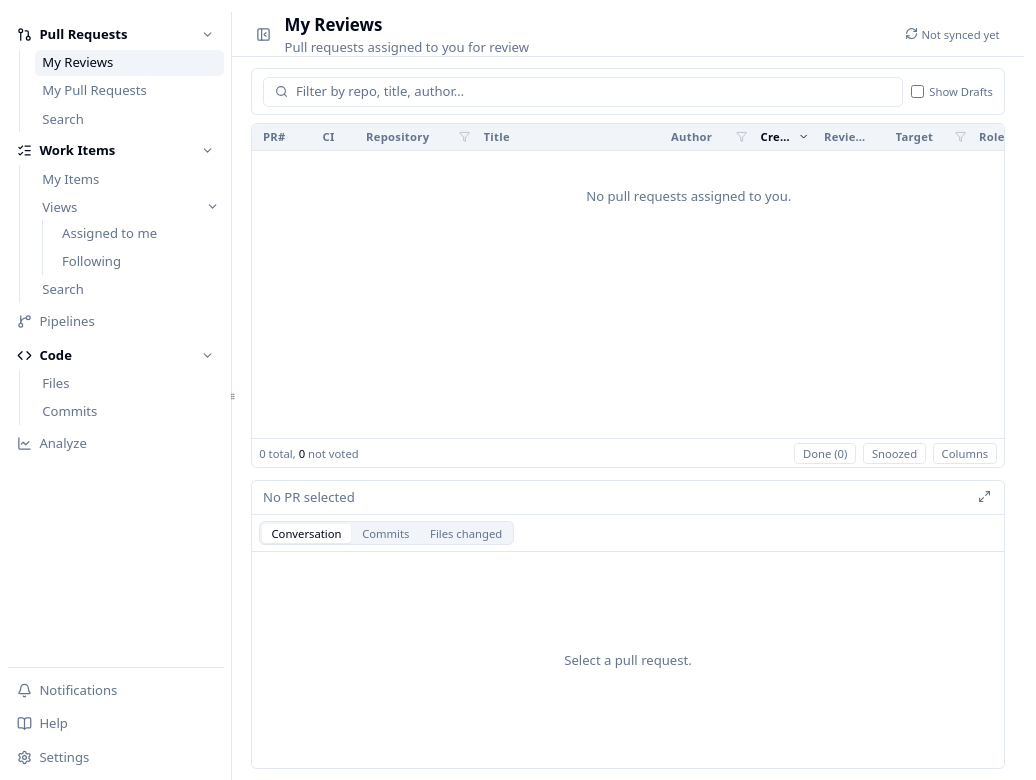
Test: App — Navigation › navigates view history with Alt+Left and Alt+Right
Expected: the heading "My Reviews" is shown, [284,12,382,36]
Click the button "Views" at (117, 207), box [35,194,199,220]
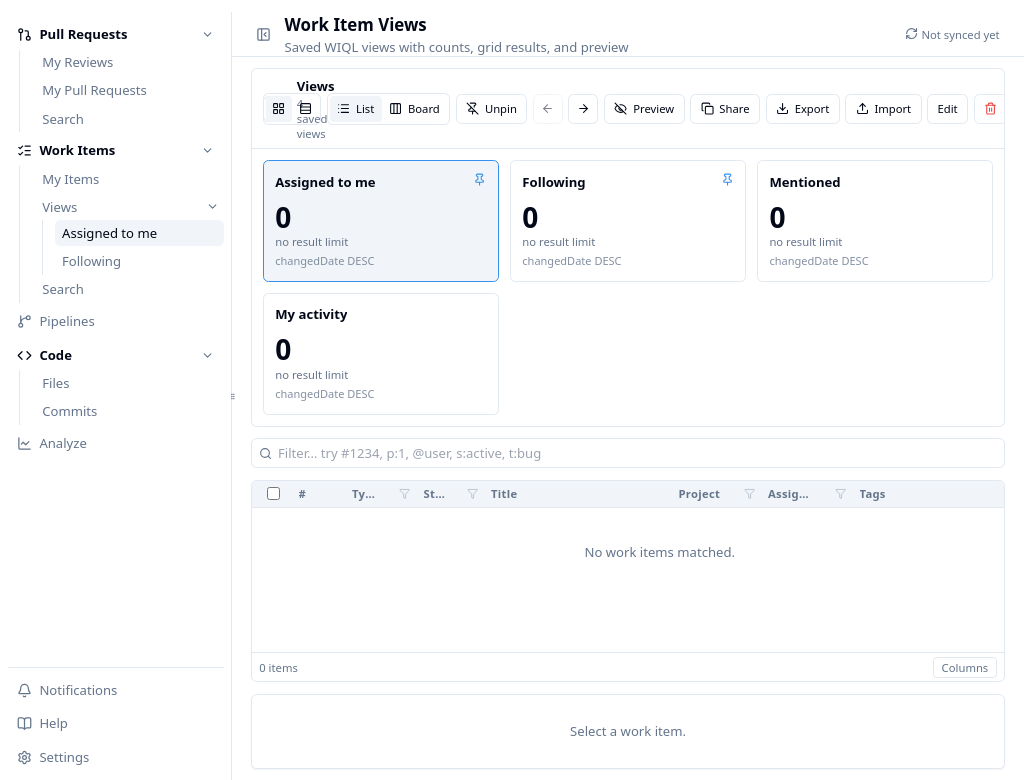
Now the heading "Work Item Views" is shown, box [284,12,427,36]
Click the button "Commits" at (129, 411), box [35,398,224,425]
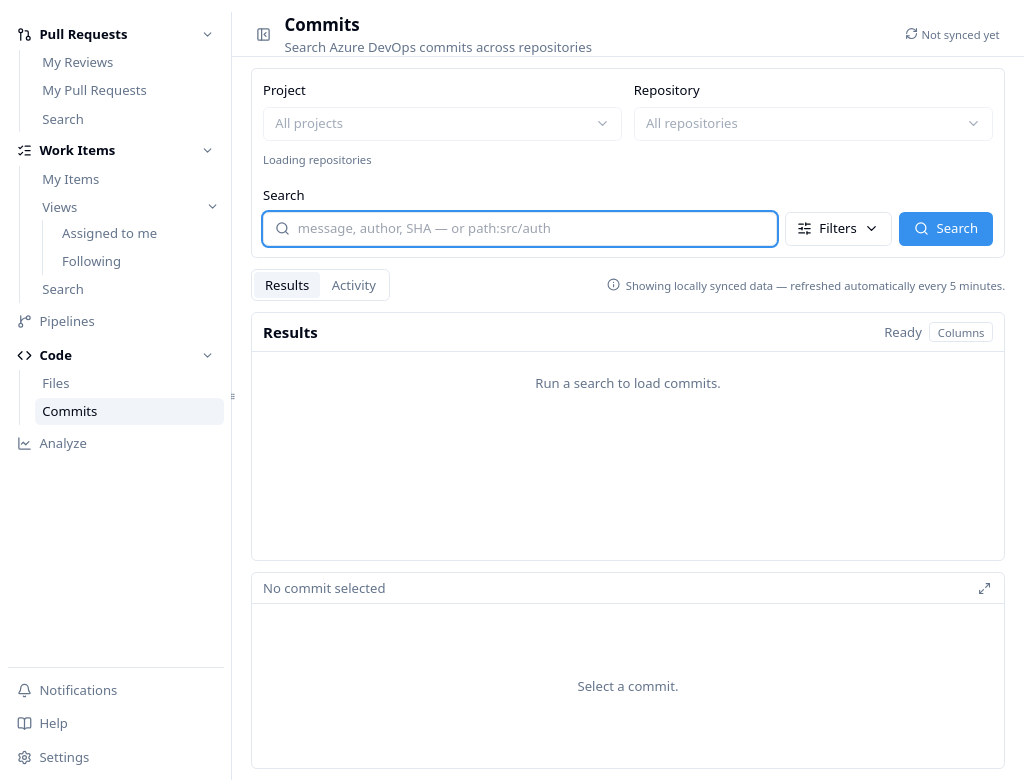
Now the heading "Commits" is shown, box [284,12,360,36]
Press ArrowLeft
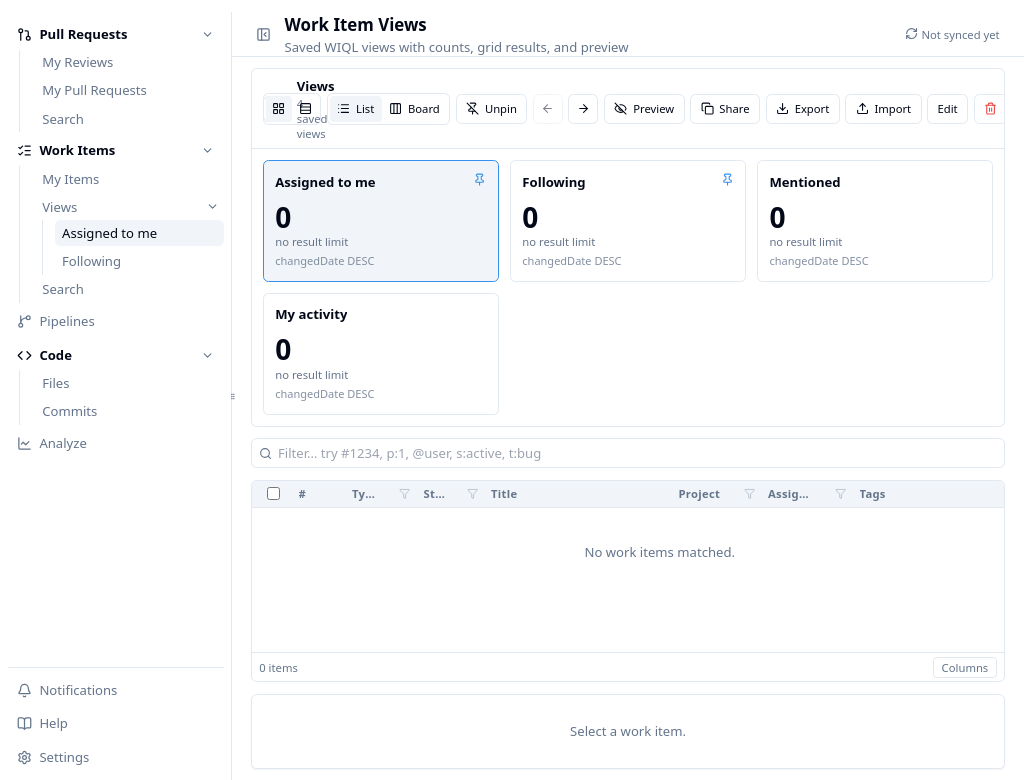
Now the heading "Work Item Views" is shown, box [284,12,427,36]
Press ArrowLeft
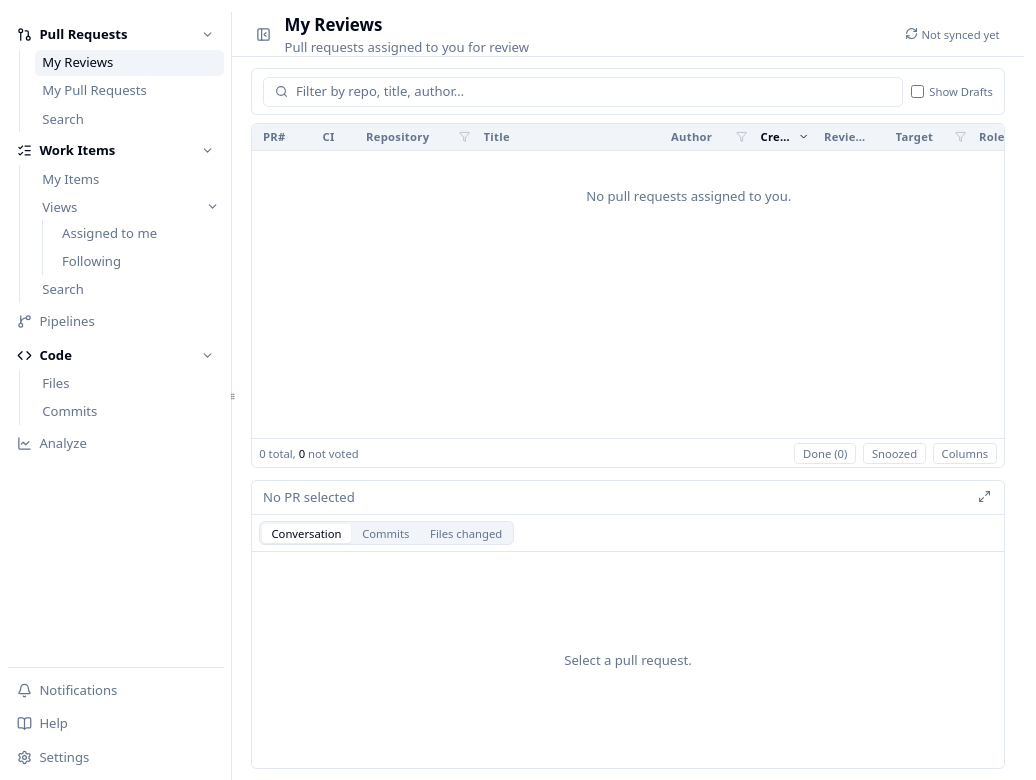
Now the heading "My Reviews" is shown, box [284,12,382,36]
// Forward again restores the next view.
Press ArrowRight
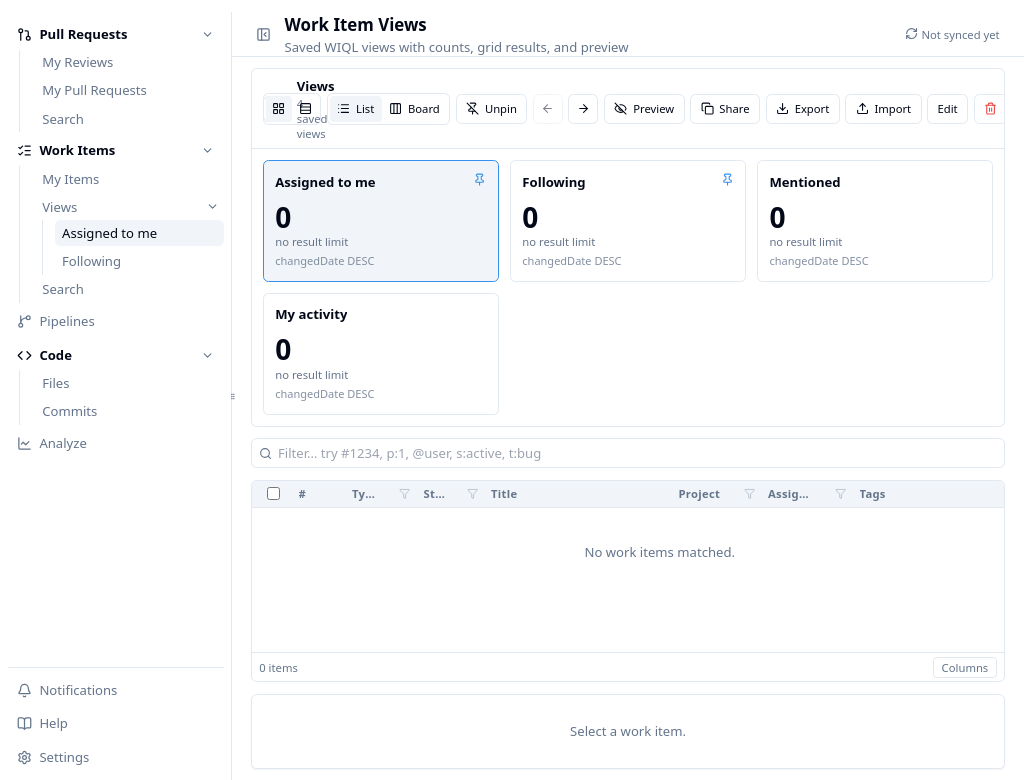
Now the heading "Work Item Views" is shown, box [284,12,427,36]
